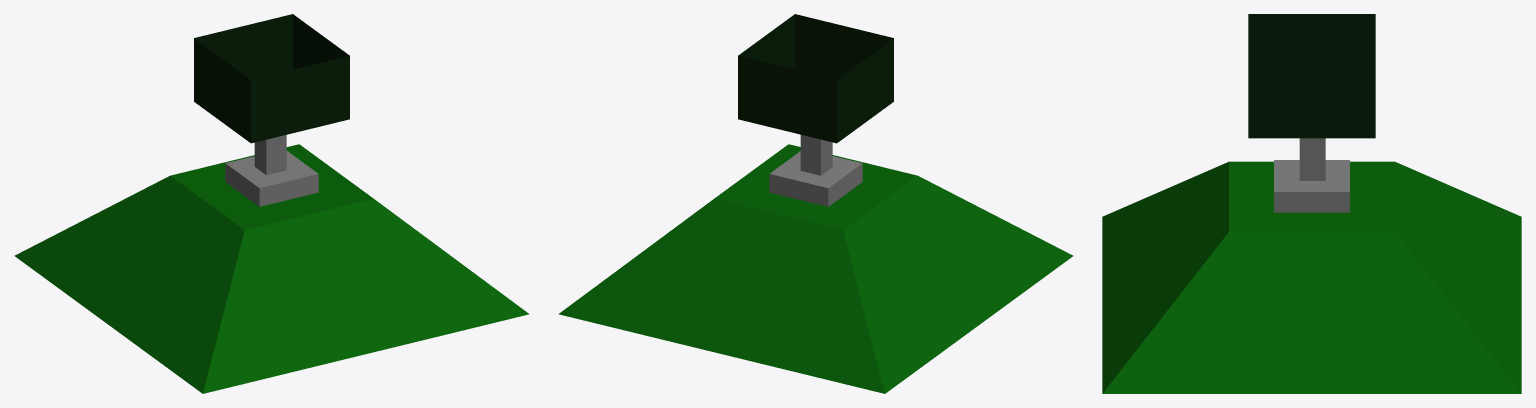
The model's file is SM_CeilingLight_01.FBX.
3 views of the same model, side by side, from view 1: azimuth 30°, elevation 25°; view 2: azimuth 150°, elevation 25°; view 3: azimuth 270°, elevation 25° (orthographic). The views are drawn at different scales.
Parts seen in each view (by area): view 1: SM_CeilingLight_01; view 2: SM_CeilingLight_01; view 3: SM_CeilingLight_01.
Part boxes in pixels (<box>): SM_CeilingLight_01: <box>14,14,529,393</box>; SM_CeilingLight_01: <box>558,14,1073,393</box>; SM_CeilingLight_01: <box>1102,14,1521,393</box>.
Size of what is drawn, in the model's own units: 74.54 by 66.19 by 74.54.
